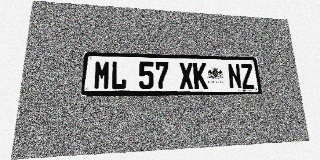5: (139, 61, 154, 89)
7: (154, 62, 169, 89)
K: (193, 63, 208, 89)
L: (110, 61, 127, 90)
M: (93, 60, 111, 90)
N: (227, 63, 242, 89)
X: (179, 62, 194, 89)
Z: (240, 64, 255, 89)
